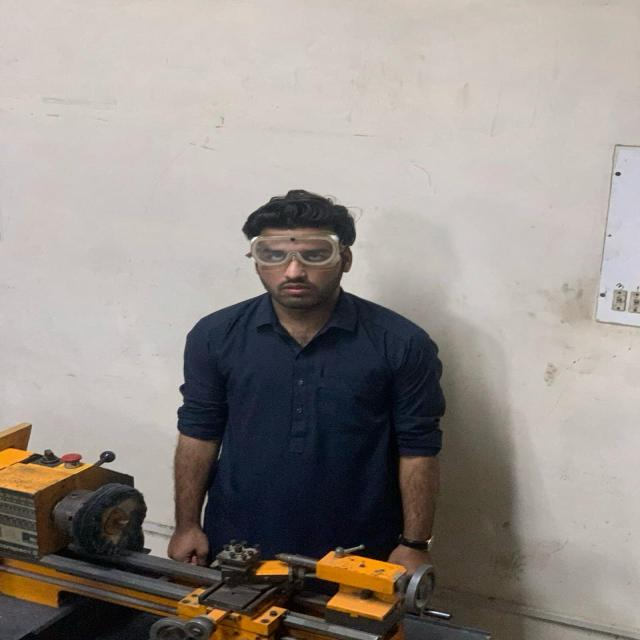googles: (250, 234, 340, 266)
